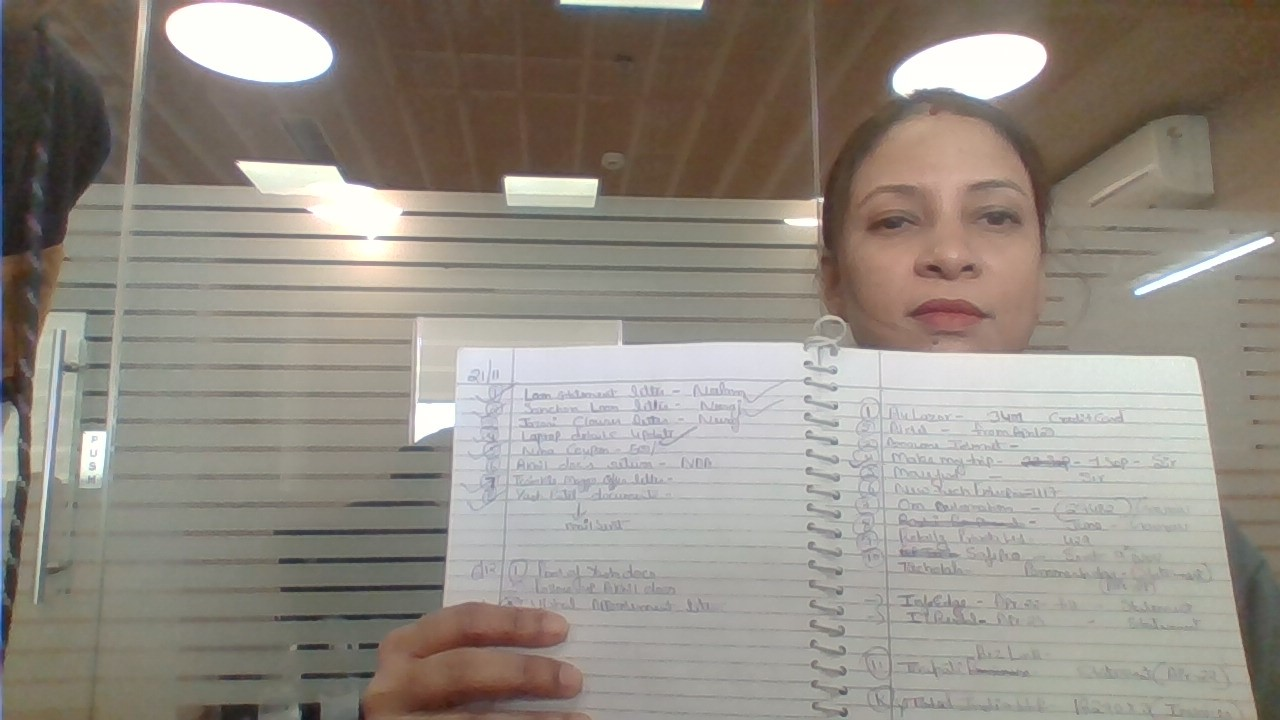partial: (815, 335, 1269, 720), (435, 344, 836, 720)
